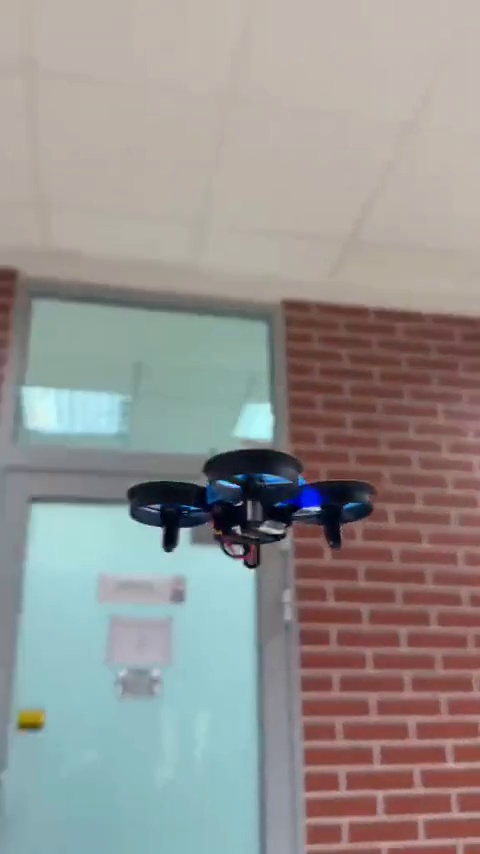drone: (132, 449, 373, 571)
